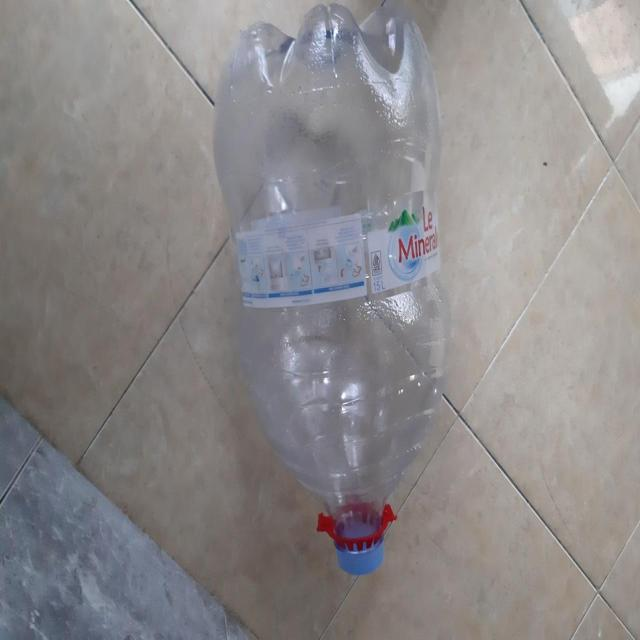Galon: (210, 0, 452, 572)
